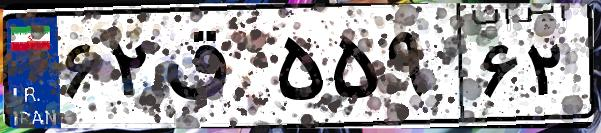2: (525, 38, 570, 115), (110, 28, 158, 98)
5: (270, 28, 330, 110), (330, 28, 385, 110)
6: (57, 26, 110, 100), (475, 38, 525, 113)
9: (385, 28, 445, 110)
ق: (158, 20, 270, 120)
